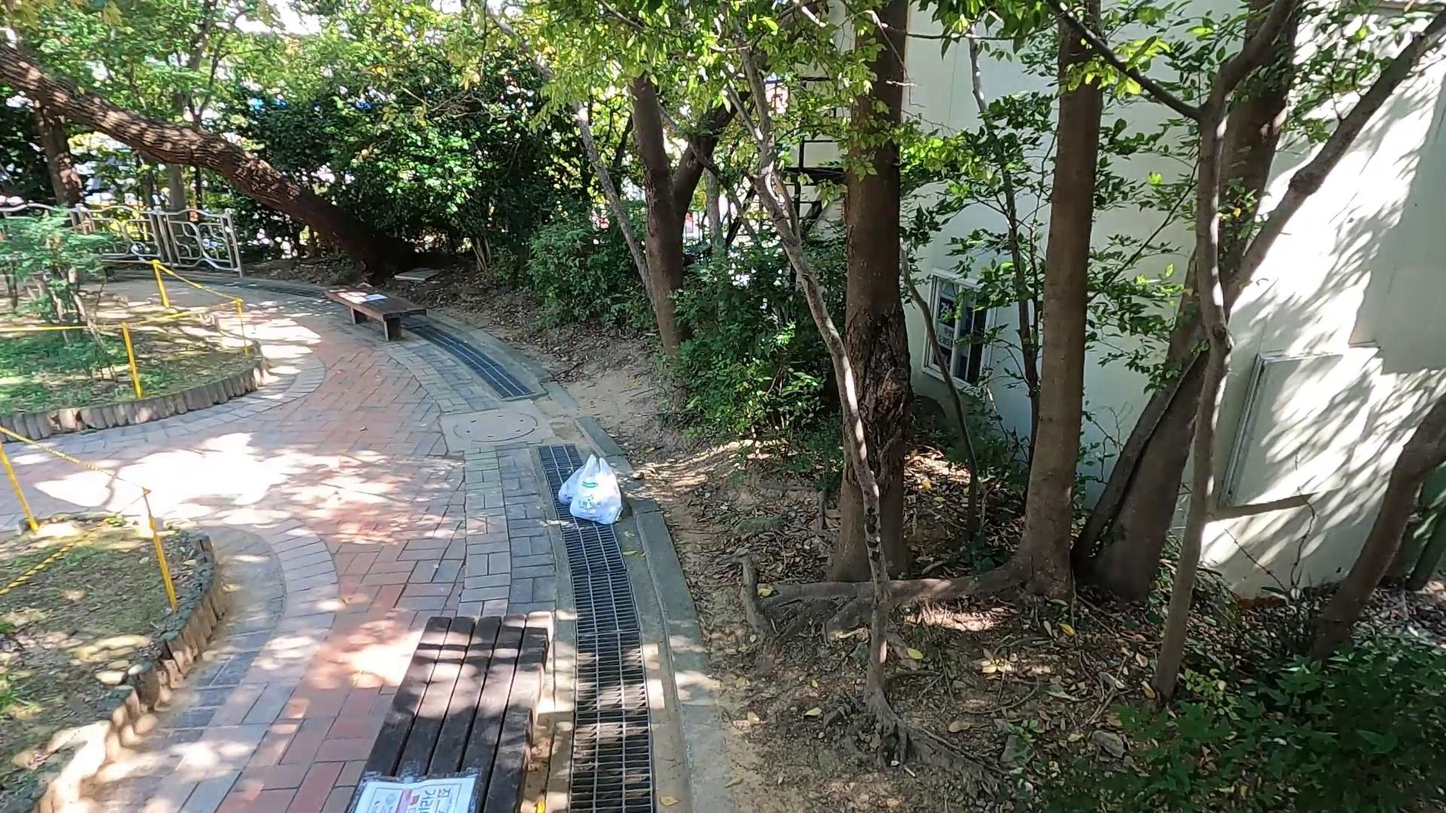trash: (572, 452, 622, 531), (557, 450, 601, 510)
